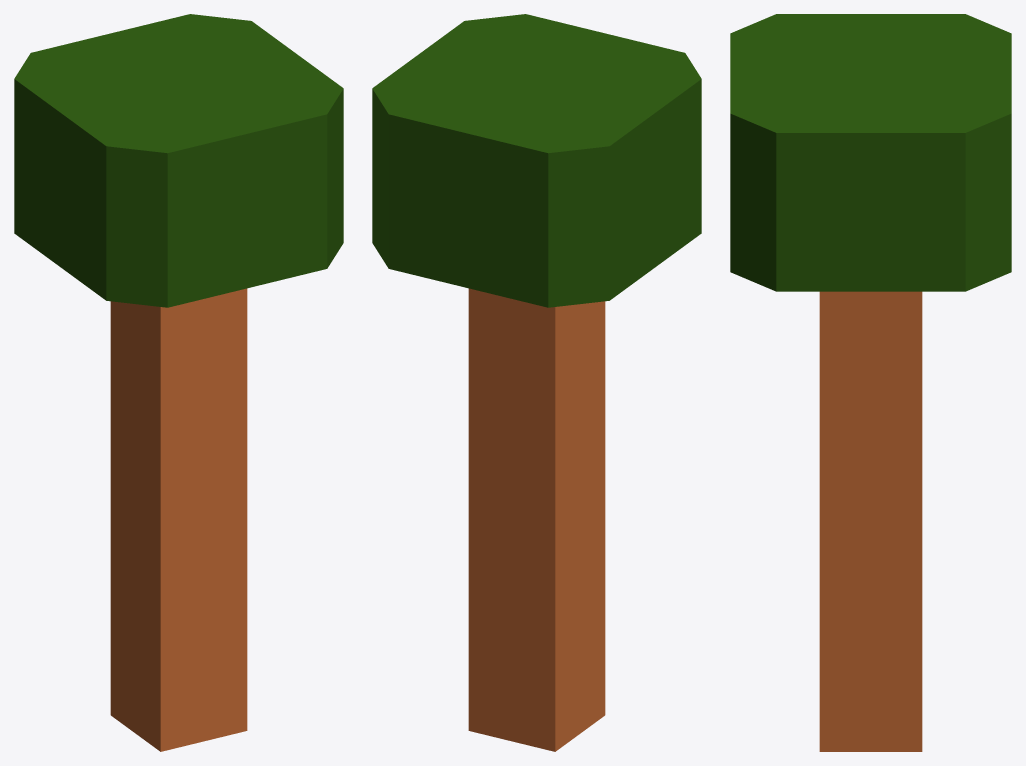
Rendered from FireStick.fbx.
3 views of the same model, side by side, from view 1: azimuth 30°, elevation 25°; view 2: azimuth 150°, elevation 25°; view 3: azimuth 270°, elevation 25° (orthographic). The views are drawn at different scales.
Parts seen in each view (by area): view 1: Cube; view 2: Cube; view 3: Cube.
Part boxes in pixels (x1,y1,x2,y2): Cube: (14, 14, 343, 751); Cube: (372, 14, 701, 751); Cube: (730, 14, 1011, 751).
Size of the model in its own units: 166 by 427 by 166.
